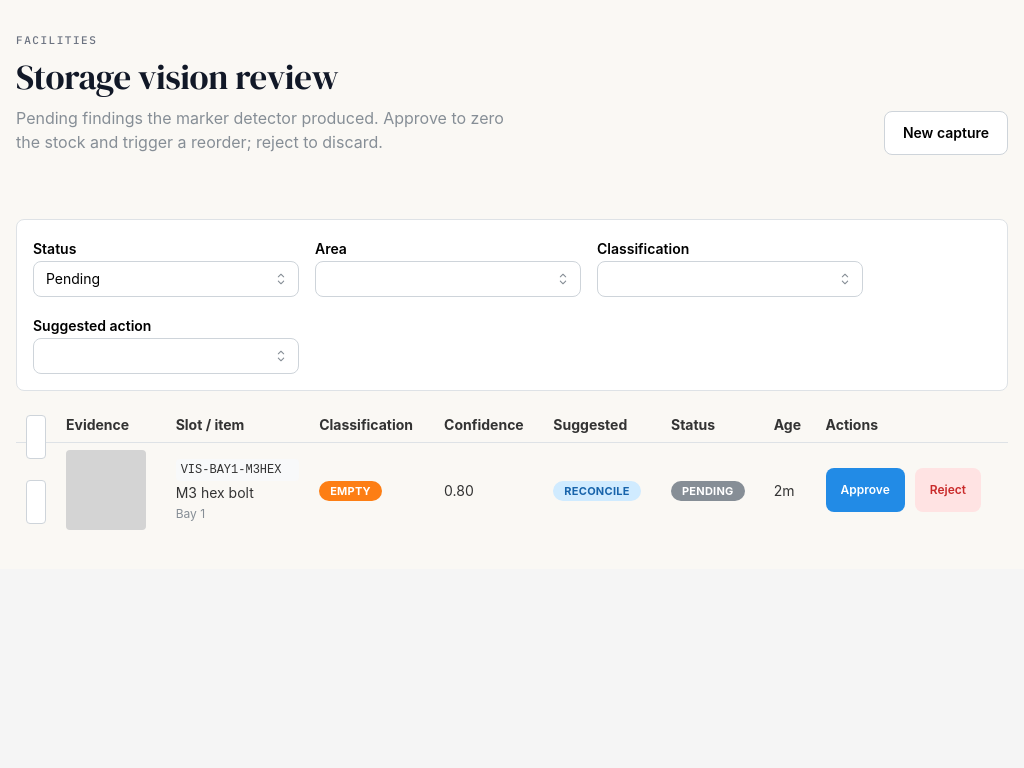
it: StorageVisionReviewPage › 409 conflict surfaces an AC-23 warning
What coordinates should you click on to do the following:
click the button with test id "approve-11"
I would click on:
 (865, 490)
Its box is 826,468 -> 905,512.
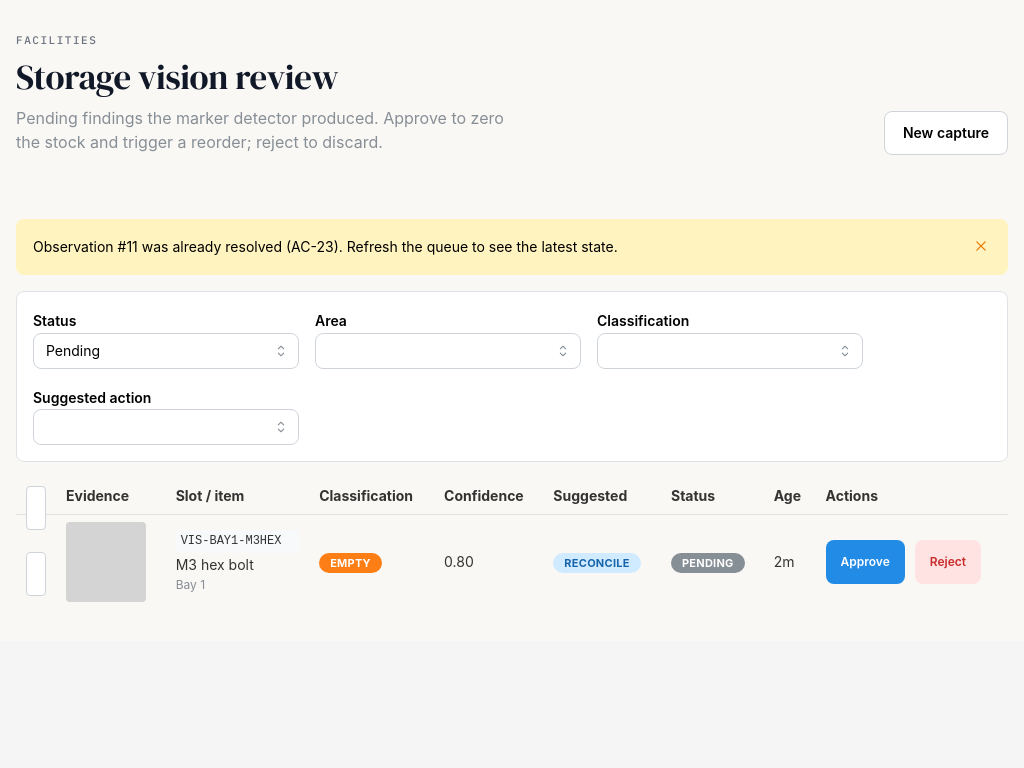
Now the message with test id "review-resolution-alert" shows "already resolved", box 33,238 -> 618,255
